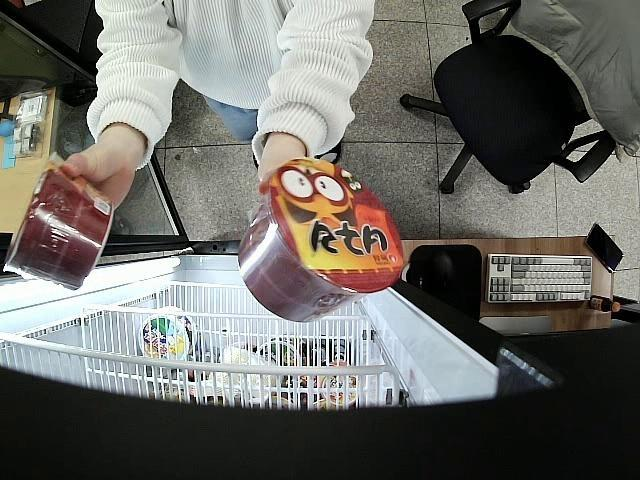05_nuguri_L: (2, 160, 116, 294)
